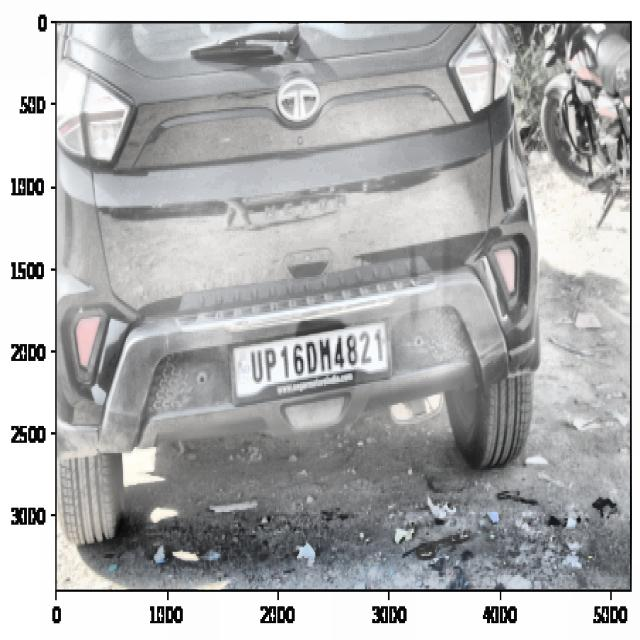license_plate: (246, 324, 390, 386)
